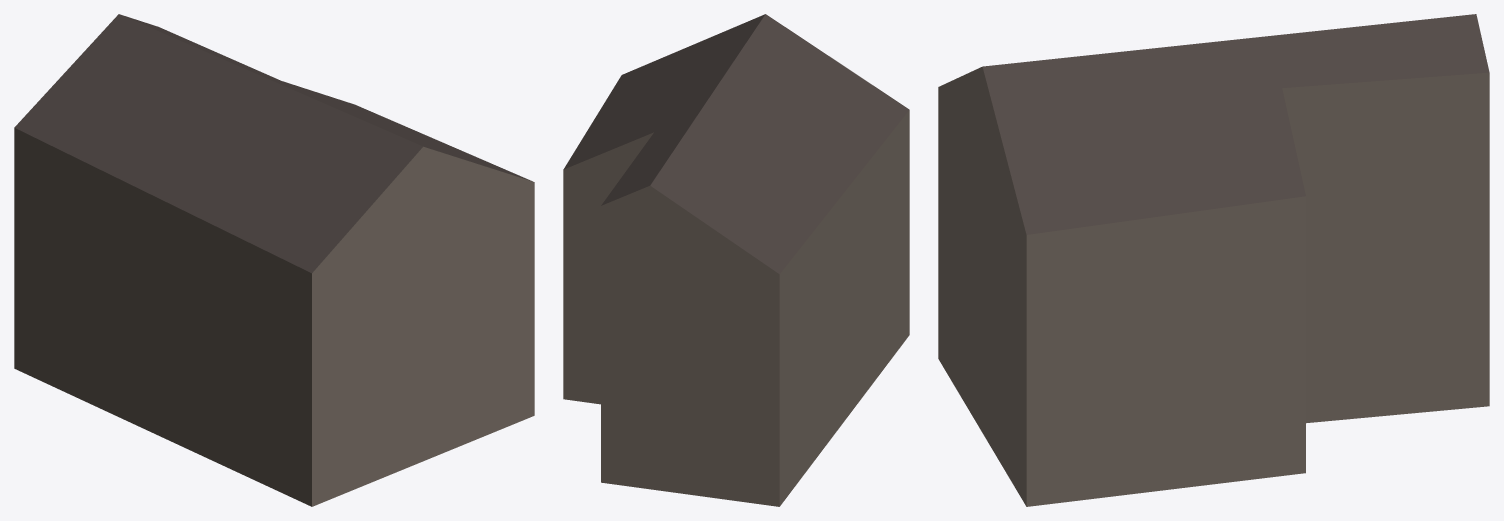
3 views of the same model, side by side, from view 1: azimuth 30°, elevation 25°; view 2: azimuth 150°, elevation 25°; view 3: azimuth 270°, elevation 25° (orthographic). The views are drawn at different scales.
Parts seen in each view (by area): view 1: HP-w776801014; view 2: HP-w776801014; view 3: HP-w776801014.
Part boxes in pixels (<box>): HP-w776801014: <box>14,14,534,506</box>; HP-w776801014: <box>563,14,909,506</box>; HP-w776801014: <box>938,14,1489,506</box>.
Size of the model in its own units: 9.19 by 8.08 by 11.02.
